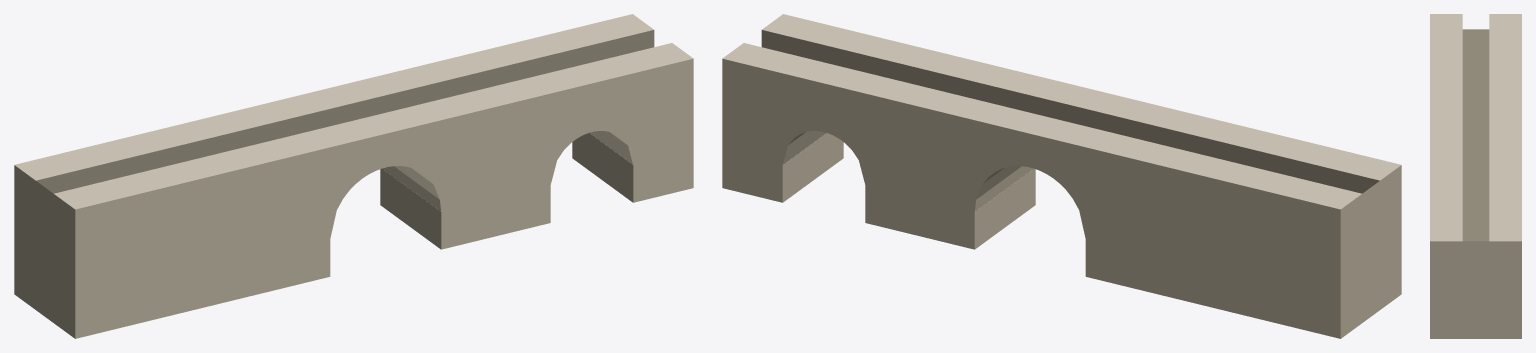
Rendered from sat-espada-aqueduct.glb.
3 views of the same model, side by side, from view 1: azimuth 30°, elevation 25°; view 2: azimuth 150°, elevation 25°; view 3: azimuth 270°, elevation 25° (orthographic). The views are drawn at different scales.
Parts seen in each view (by area): view 1: Espada Aqueduct; view 2: Espada Aqueduct; view 3: Espada Aqueduct.
Part boxes in pixels (left/top/right/bottom): Espada Aqueduct: left=14, top=14, right=693, bottom=338; Espada Aqueduct: left=722, top=14, right=1401, bottom=338; Espada Aqueduct: left=1430, top=14, right=1521, bottom=338.
Size of the model in its own units: 24 by 4.8 by 4.1.
